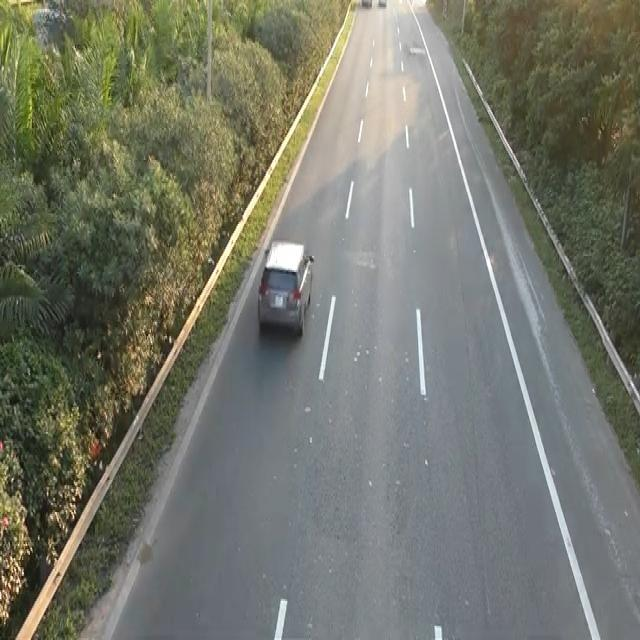car: (255, 236, 315, 338)
